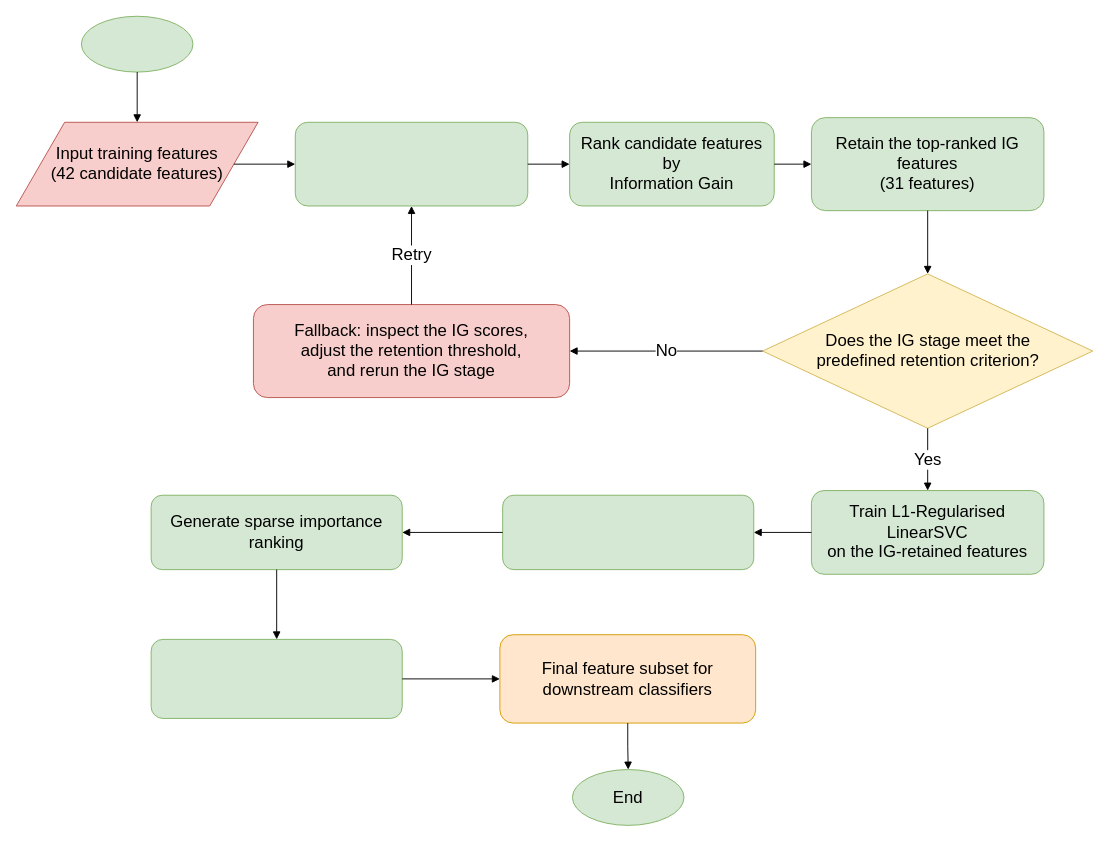
Some shapes in this 1109 by 842 pixel diagram are drawn without their labels. The centre of each missing label's shape, as x and y in pixels:
"Calculate Information Gain scores" belongs at pixel 411 163.
"Compute the absolute L1 coefficients" belongs at pixel 628 532.
"Retain the top-21 final features" belongs at pixel 276 678.
"Start" belongs at pixel 136 43.
